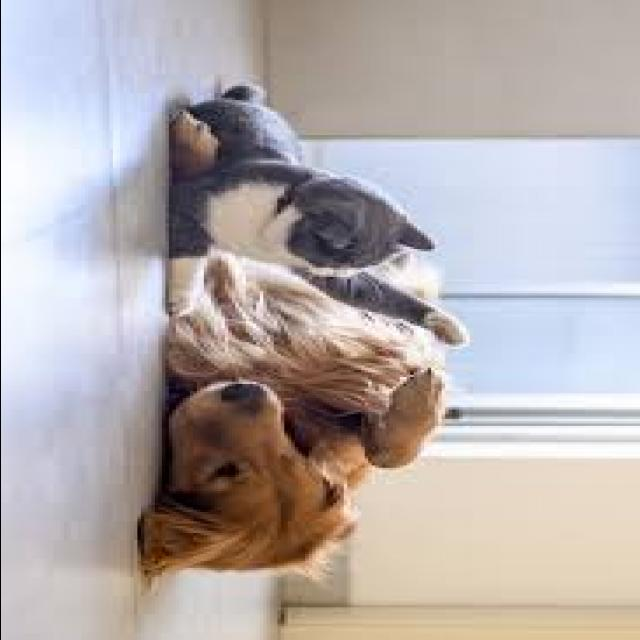cat: (156, 80, 456, 328)
dog: (136, 262, 466, 604)
